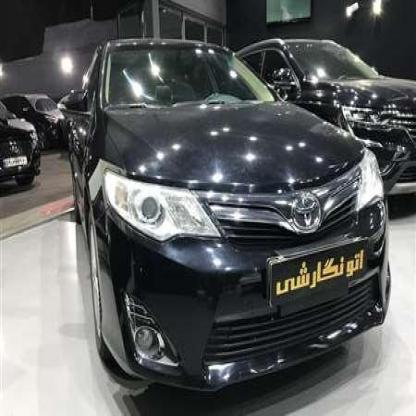Car: (62, 51, 400, 387), (237, 18, 416, 205), (0, 106, 43, 206), (0, 90, 71, 148)
